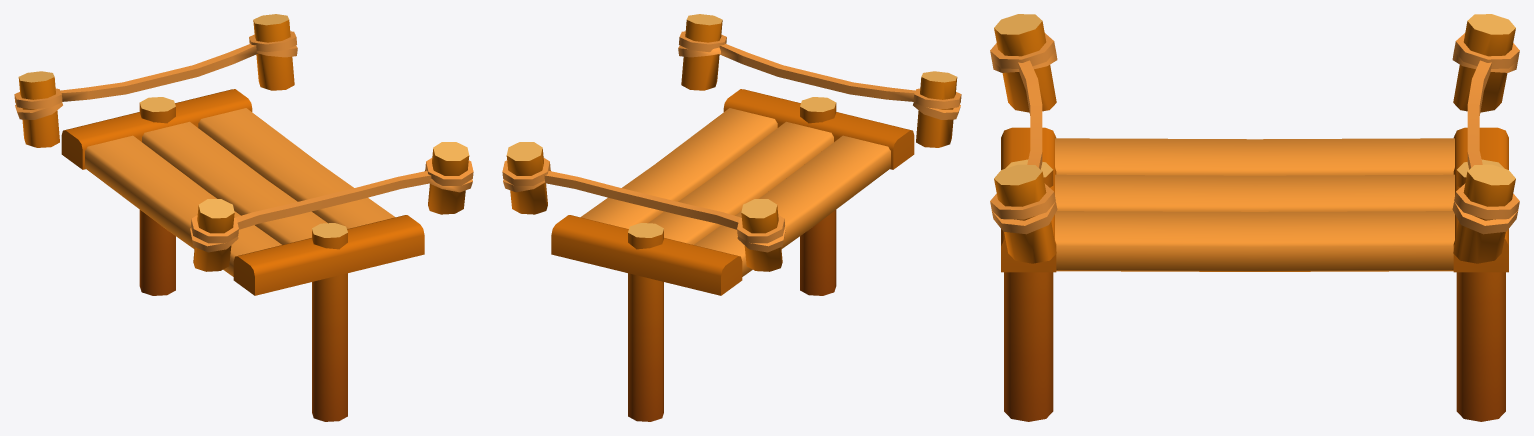
File: Props_Wooden_Bridge_01_A.fbx
3 renders of one model, left to right at view 1: azimuth 30°, elevation 25°; view 2: azimuth 150°, elevation 25°; view 3: azimuth 270°, elevation 25°, orthographic. The views are drawn at different scales.
Parts seen in each view (by area): view 1: Props_Wooden_Bridge_01_A; view 2: Props_Wooden_Bridge_01_A; view 3: Props_Wooden_Bridge_01_A.
Boxes of the visible parts, bbox=[...] form: Props_Wooden_Bridge_01_A: bbox=[14, 14, 473, 421]; Props_Wooden_Bridge_01_A: bbox=[502, 14, 961, 421]; Props_Wooden_Bridge_01_A: bbox=[990, 14, 1519, 421].
Size of the model in its own units: 327 by 270 by 411.
